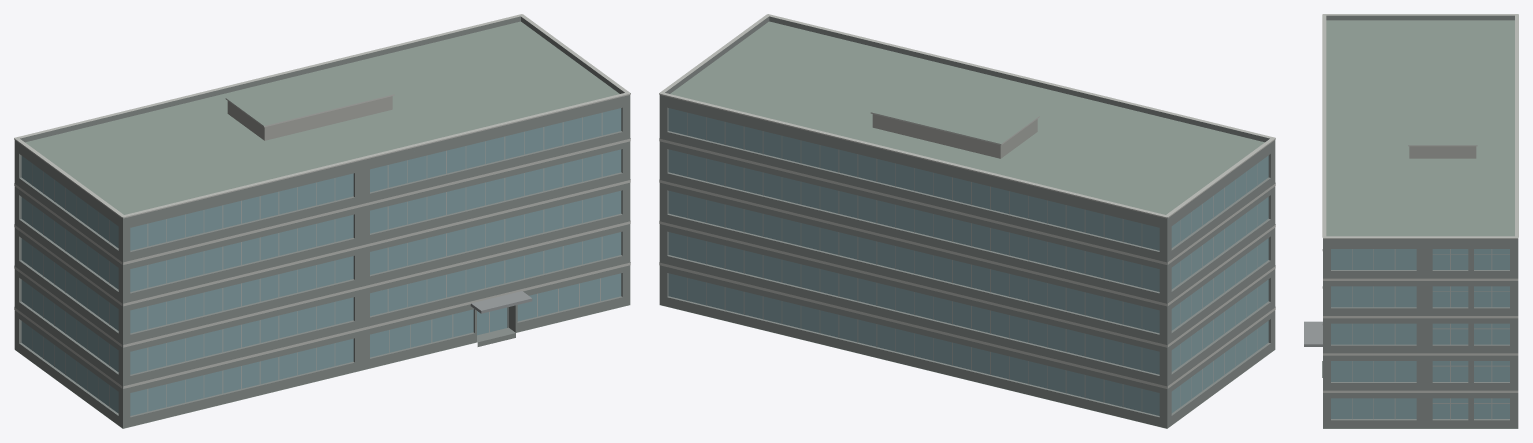
The picture shows the model from 3 angles, left to right: view 1: azimuth 30°, elevation 25°; view 2: azimuth 150°, elevation 25°; view 3: azimuth 270°, elevation 25°; orthographic projection. The views are drawn at different scales.
Parts seen in each view (by area): view 1: energy__glass, energy__wall, energy__roof, energy__trim, energy__parapet, energy__frame, energy__wall2, energy__canopy; view 2: energy__glass, energy__wall, energy__roof, energy__trim, energy__parapet, energy__frame, energy__wall2; view 3: energy__roof, energy__wall, energy__glass, energy__trim, energy__parapet, energy__frame, energy__wall2, energy__canopy.
Boxes of the visible parts, x1=… form: energy__glass: x1=21, y1=108, x2=621, y2=415; energy__wall: x1=14, y1=98, x2=630, y2=428; energy__roof: x1=15, y1=21, x2=629, y2=428; energy__trim: x1=14, y1=14, x2=630, y2=388; energy__parapet: x1=14, y1=16, x2=630, y2=221; energy__frame: x1=32, y1=112, x2=602, y2=411; energy__wall2: x1=227, y1=96, x2=392, y2=140; energy__canopy: x1=470, y1=291, x2=532, y2=313; energy__glass: x1=668, y1=108, x2=1268, y2=415; energy__wall: x1=659, y1=98, x2=1275, y2=428; energy__roof: x1=660, y1=21, x2=1274, y2=428; energy__trim: x1=659, y1=14, x2=1275, y2=388; energy__parapet: x1=659, y1=16, x2=1275, y2=221; energy__frame: x1=687, y1=112, x2=1257, y2=411; energy__wall2: x1=872, y1=114, x2=1037, y2=158; energy__roof: x1=1323, y1=20, x2=1517, y2=428; energy__wall: x1=1323, y1=242, x2=1518, y2=428; energy__glass: x1=1331, y1=249, x2=1509, y2=418; energy__trim: x1=1322, y1=14, x2=1518, y2=392; energy__parapet: x1=1323, y1=15, x2=1518, y2=242; energy__frame: x1=1352, y1=249, x2=1509, y2=419; energy__wall2: x1=1409, y1=146, x2=1476, y2=158; energy__canopy: x1=1304, y1=321, x2=1322, y2=346.
Bounding box in the file's own units: 47.69 × 20.3 × 19.31.
